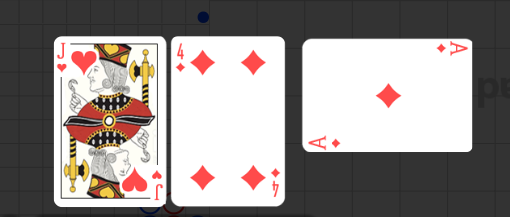4D: (174, 42, 187, 74)
AD: (434, 42, 468, 58)
JH: (55, 42, 68, 74)
